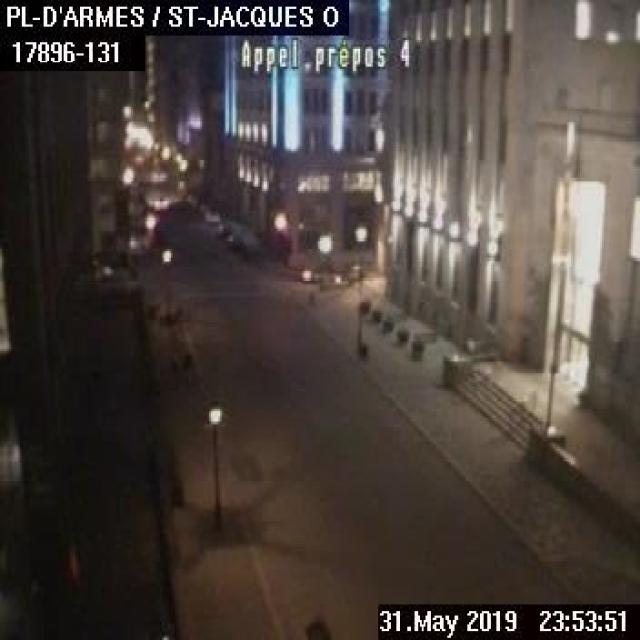vehicle: (298, 263, 342, 282)
